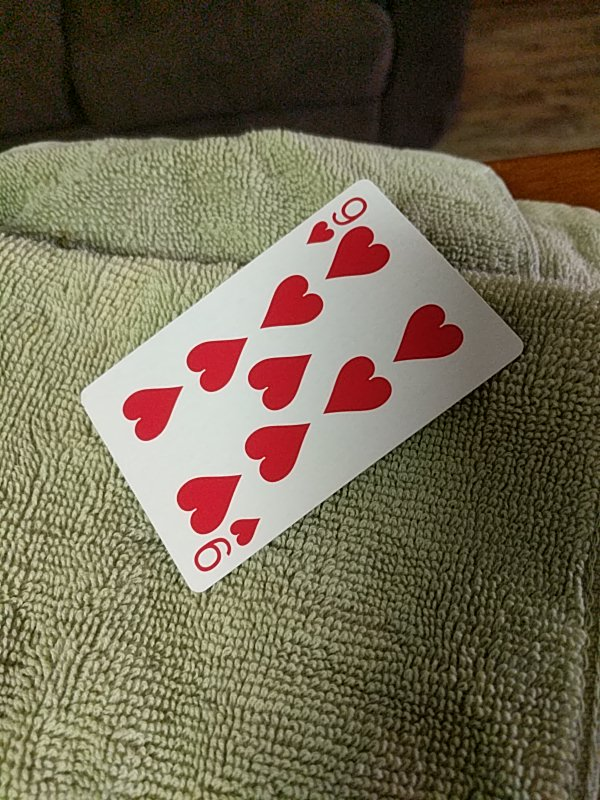Hearts: (77, 177, 526, 594)
